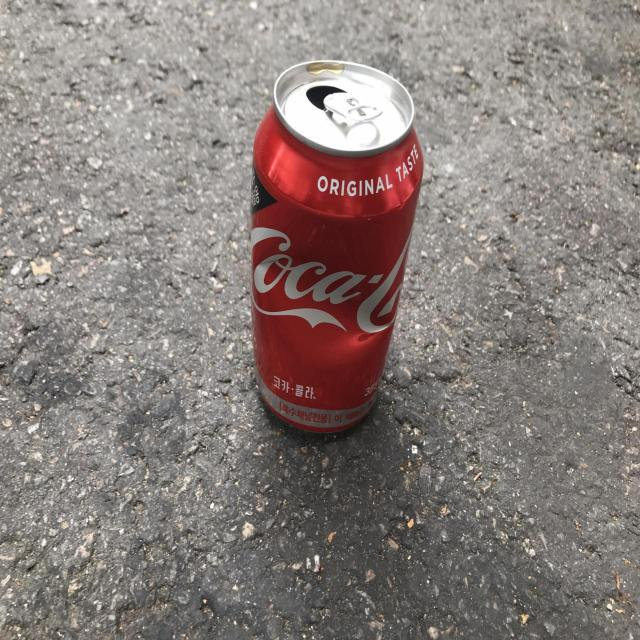can: (250, 59, 424, 432)
